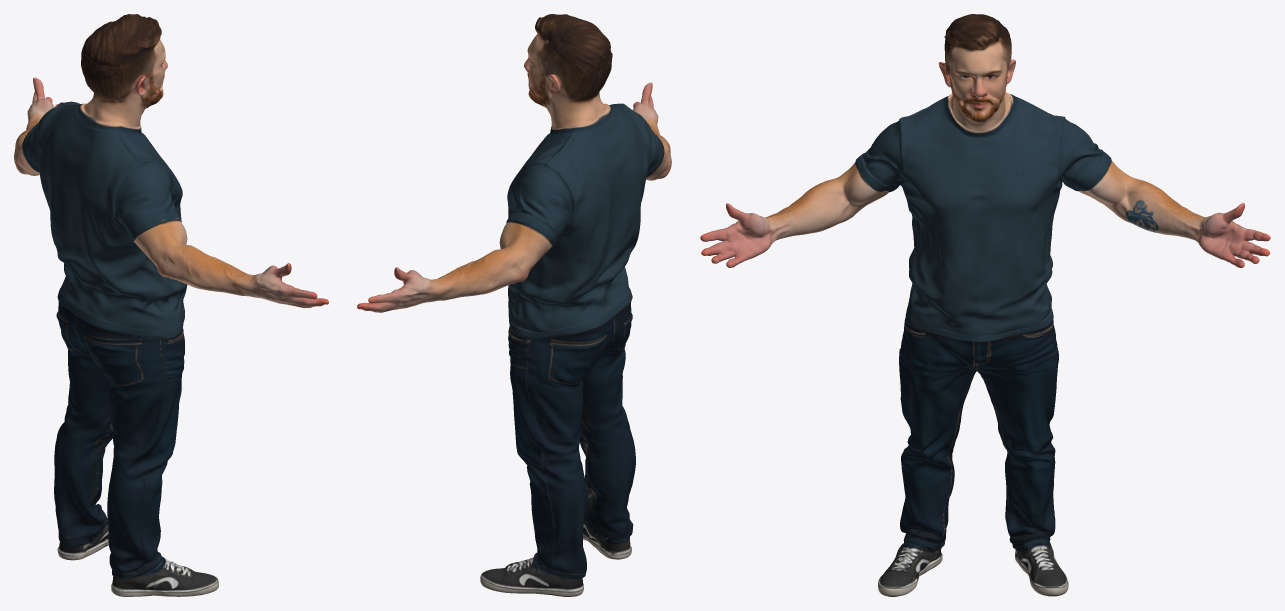
Rendered from realistic_male_character.glb.
The picture shows the model from 3 angles, left to right: view 1: azimuth 30°, elevation 25°; view 2: azimuth 150°, elevation 25°; view 3: azimuth 270°, elevation 25°; orthographic projection.
Parts seen in each view (by area): view 1: tripo_node_d0bcade7; view 2: tripo_node_d0bcade7; view 3: tripo_node_d0bcade7.
Boxes of the visible parts, x1,y1,x2,y2 form: tripo_node_d0bcade7: (14, 14, 328, 596); tripo_node_d0bcade7: (357, 14, 671, 596); tripo_node_d0bcade7: (700, 14, 1270, 596).
Size of the model in its own units: 0.2507 by 1 by 0.9283.
Materials: 1 (1 with a texture image).
